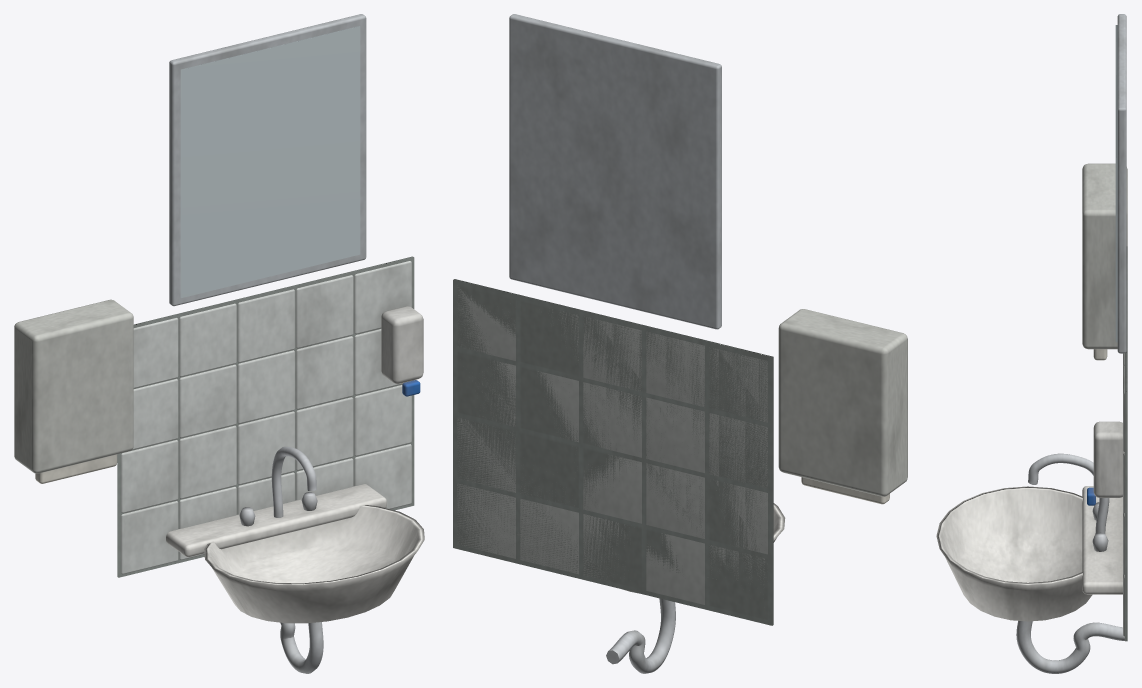
Rendered from szp_umywalka.glb.
3 renders of one model, left to right at view 1: azimuth 30°, elevation 25°; view 2: azimuth 150°, elevation 25°; view 3: azimuth 270°, elevation 25°, orthographic. The views are drawn at different scales.
Visible parts, largest first — view 1: Umywalka, Lustro; view 2: Umywalka; view 3: Umywalka, Lustro.
Part boxes in pixels (bbox=[...]): Umywalka: bbox=[14, 14, 424, 673]; Lustro: bbox=[180, 26, 360, 297]; Umywalka: bbox=[453, 14, 907, 673]; Umywalka: bbox=[936, 14, 1127, 673]; Lustro: bbox=[1115, 25, 1117, 342].
Bounding box in the file's own units: 1.03 × 1.5 × 0.4228.
Materials: 2 (1 with a texture image).
